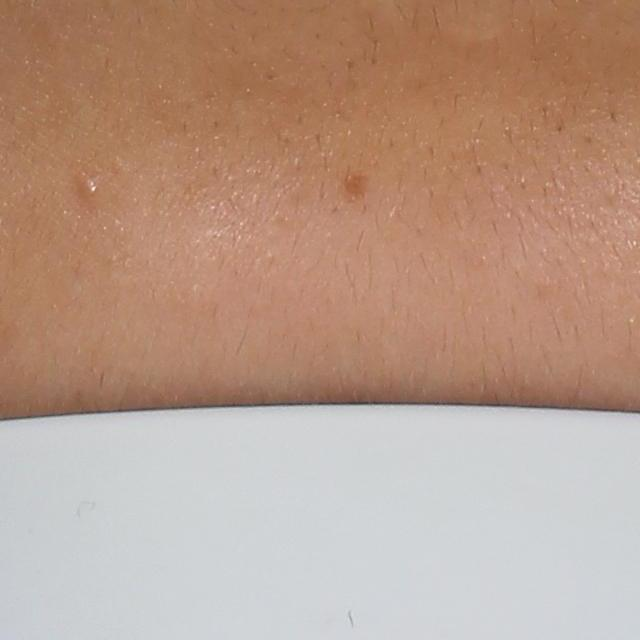comedo: (79, 168, 108, 206)
nevus: (343, 177, 367, 208)
